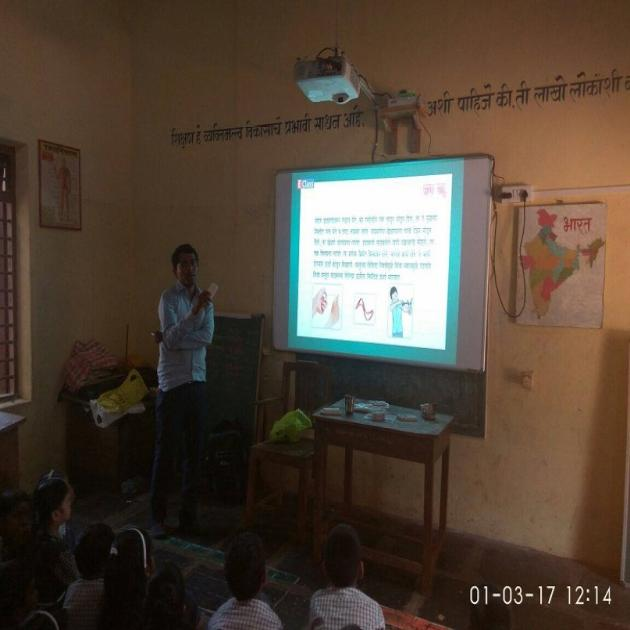projector: (257, 154, 530, 370)
there is a person: (157, 249, 227, 393)
